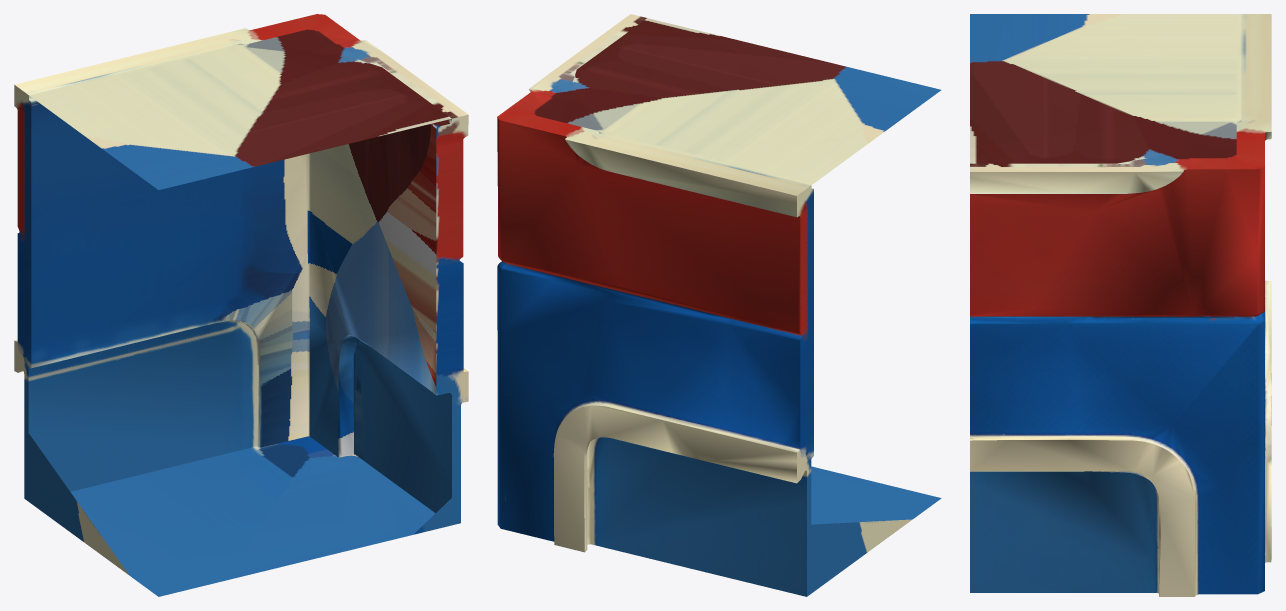
The model's file is 8-upper-walls-back-right.fbx.
3 views of the same model, side by side, from view 1: azimuth 30°, elevation 25°; view 2: azimuth 150°, elevation 25°; view 3: azimuth 270°, elevation 25° (orthographic). The views are drawn at different scales.
Parts seen in each view (by area): view 1: upper-walls-back-right; view 2: upper-walls-back-right; view 3: upper-walls-back-right.
Boxes of the visible parts, box(x1,y1,x2,y2) form: upper-walls-back-right: box(14, 14, 468, 596); upper-walls-back-right: box(497, 14, 941, 596); upper-walls-back-right: box(970, 14, 1271, 596).
Bounding box in the file's own units: 4807 × 6025 × 3876.
1 material, 1 textured.
